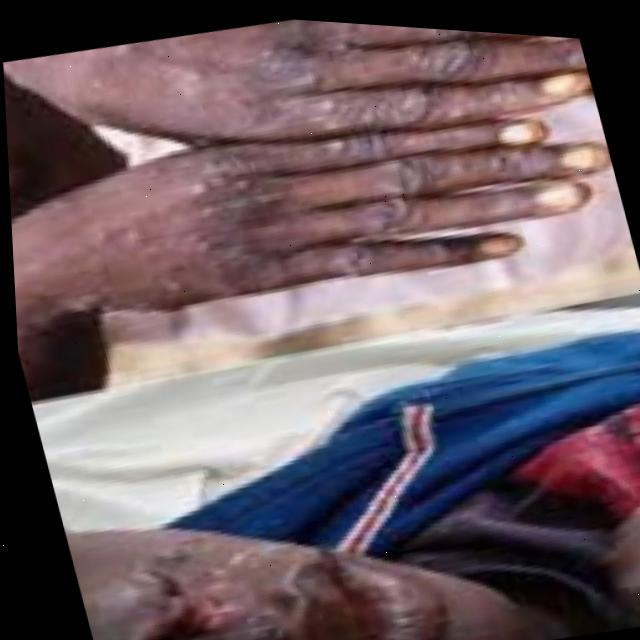Eczema: (64, 4, 547, 295), (75, 528, 333, 640)
